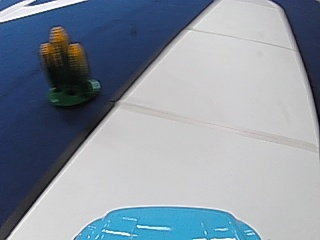tractor: (38, 23, 99, 108)
